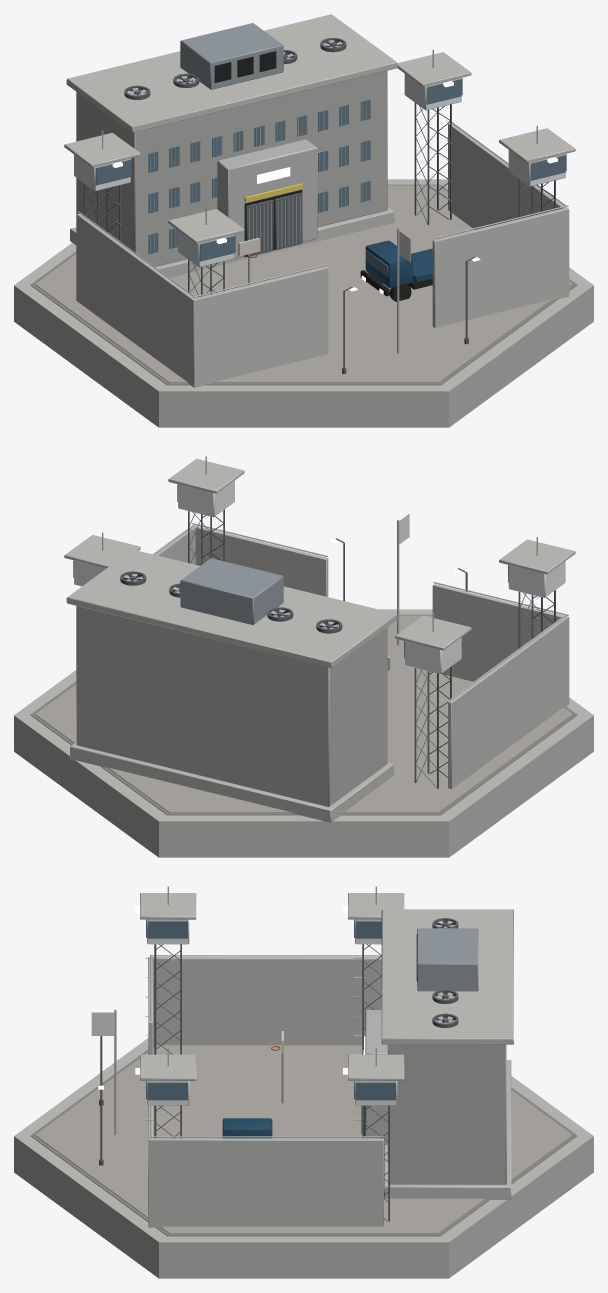
File: prison.glb
3 renders of one model, top to bottom at view 1: azimuth 30°, elevation 25°; view 2: azimuth 150°, elevation 25°; view 3: azimuth 270°, elevation 25°, orthographic.
Parts seen in each view (by area): view 1: wall_concrete, gravel, glass, cladding, steel_dark, metal, paint, pavers, dark, glow_warm; view 2: wall_concrete, gravel, cladding, steel_dark, pavers, metal; view 3: wall_concrete, gravel, cladding, steel_dark, glass, pavers, metal, paint, banner.
Boxes of the visible parts, x1=… form: wall_concrete: x1=14, y1=14, x2=593, y2=427; gravel: x1=35, y1=185, x2=572, y2=382; glass: x1=95, y1=78, x2=566, y2=277; cladding: x1=74, y1=23, x2=565, y2=267; steel_dark: x1=84, y1=38, x2=555, y2=374; metal: x1=77, y1=40, x2=568, y2=377; paint: x1=238, y1=238, x2=432, y2=287; pavers: x1=30, y1=184, x2=577, y2=385; dark: x1=131, y1=42, x2=432, y2=301; glow_warm: x1=112, y1=81, x2=557, y2=294; wall_concrete: x1=14, y1=458, x2=593, y2=857; gravel: x1=35, y1=615, x2=572, y2=812; cladding: x1=74, y1=480, x2=565, y2=673; steel_dark: x1=120, y1=509, x2=555, y2=788; pavers: x1=30, y1=614, x2=577, y2=815; metal: x1=102, y1=456, x2=568, y2=771; wall_concrete: x1=14, y1=893, x2=593, y2=1278; gravel: x1=35, y1=1045, x2=572, y2=1233; cladding: x1=147, y1=919, x2=478, y2=1105; steel_dark: x1=99, y1=918, x2=458, y2=1221; glass: x1=146, y1=919, x2=396, y2=1100; pavers: x1=30, y1=1046, x2=577, y2=1236; metal: x1=114, y1=886, x2=455, y2=1216; paint: x1=222, y1=1031, x2=283, y2=1138; banner: x1=91, y1=1012, x2=114, y2=1035.
Size of the model in its own units: 21.3 by 10.6 by 24.6.
